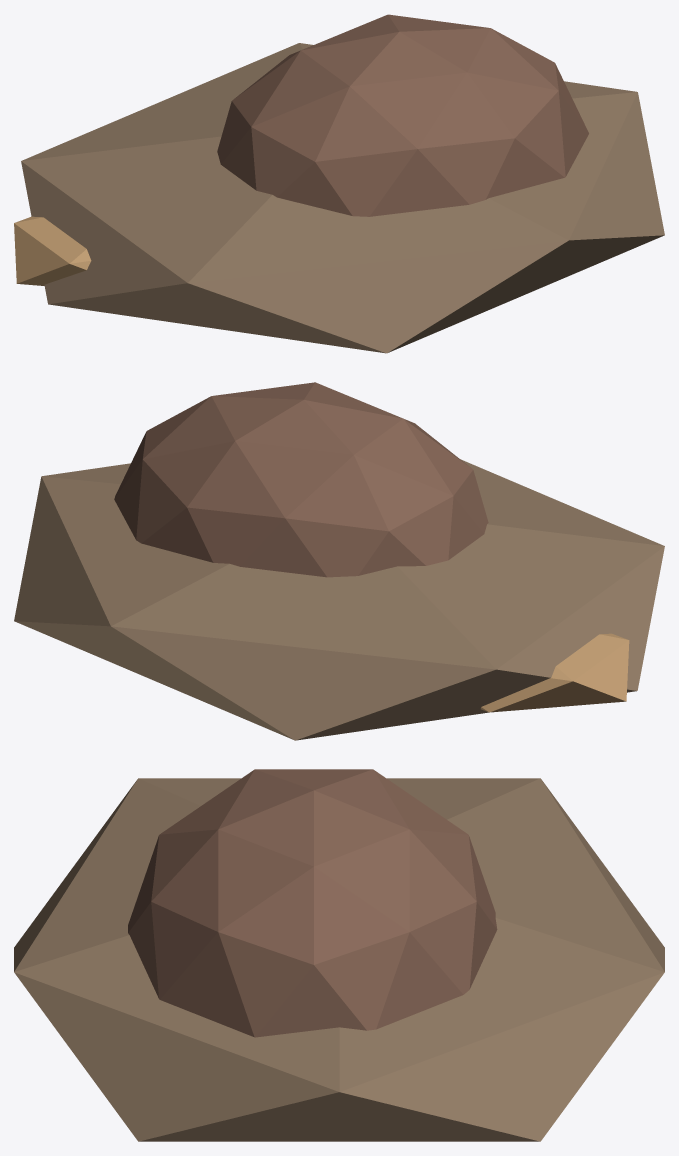
Rendered from Truffle_Natural.glb.
3 renders of one model, top to bottom at view 1: azimuth 30°, elevation 25°; view 2: azimuth 150°, elevation 25°; view 3: azimuth 270°, elevation 25°, orthographic. The views are drawn at different scales.
Visible parts, largest first — view 1: FTF_Nature_Truffle_Natural_StaticMesh; view 2: FTF_Nature_Truffle_Natural_StaticMesh; view 3: FTF_Nature_Truffle_Natural_StaticMesh.
Boxes of the visible parts, x1=… form: FTF_Nature_Truffle_Natural_StaticMesh: x1=14, y1=14, x2=664, y2=353; FTF_Nature_Truffle_Natural_StaticMesh: x1=14, y1=382, x2=664, y2=740; FTF_Nature_Truffle_Natural_StaticMesh: x1=14, y1=769, x2=664, y2=1141.
Bounding box in the file's own units: 0.6551 × 0.26 × 0.5104.
